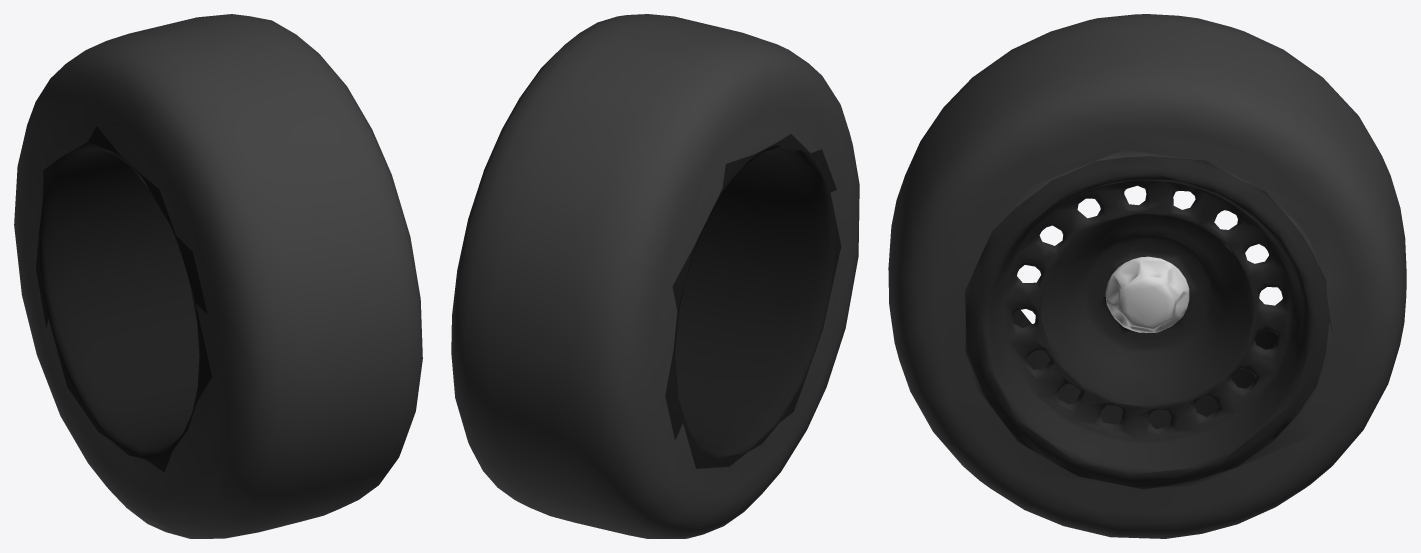
File: police_car_wheel_left.obj
3 views of the same model, side by side, from view 1: azimuth 30°, elevation 25°; view 2: azimuth 150°, elevation 25°; view 3: azimuth 270°, elevation 25° (orthographic).
Visible parts, largest first — view 1: FL_CrownVic.Wheel.Ft.L_Cylinder; view 2: FL_CrownVic.Wheel.Ft.L_Cylinder; view 3: FL_CrownVic.Wheel.Ft.L_Cylinder.
Part boxes in pixels (left/top/right/bottom): FL_CrownVic.Wheel.Ft.L_Cylinder: left=14, top=14, right=422, bottom=538; FL_CrownVic.Wheel.Ft.L_Cylinder: left=451, top=14, right=859, bottom=538; FL_CrownVic.Wheel.Ft.L_Cylinder: left=888, top=14, right=1406, bottom=538.
Size of the model in its own units: 0.3551 by 0.7933 by 0.7941.
1 material, 1 textured.
